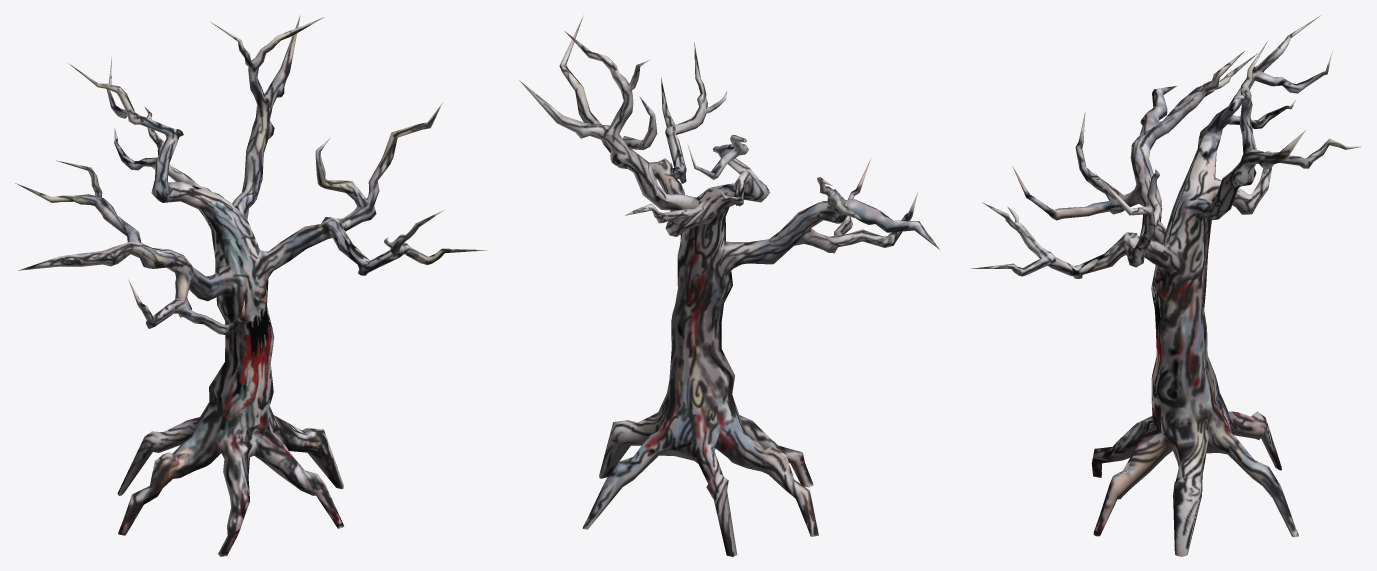
Rendered from PRP_GashadokuroTreeA.FBX.
3 views of the same model, side by side, from view 1: azimuth 30°, elevation 25°; view 2: azimuth 150°, elevation 25°; view 3: azimuth 270°, elevation 25° (orthographic). The views are drawn at different scales.
Parts seen in each view (by area): view 1: PRP_GashadokuroTreeA; view 2: PRP_GashadokuroTreeA; view 3: PRP_GashadokuroTreeA.
Part boxes in pixels (x1,y1,x2,y2): PRP_GashadokuroTreeA: (15, 15, 487, 556); PRP_GashadokuroTreeA: (519, 16, 939, 556); PRP_GashadokuroTreeA: (970, 15, 1361, 556).
Size of the model in its own units: 941 by 1049 by 794.
1 material, 1 textured.
